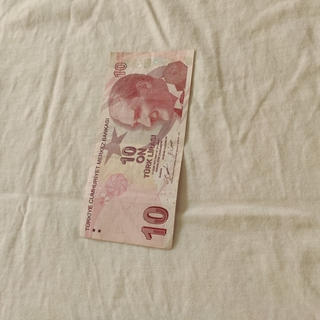10TLFront: (76, 47, 195, 249)
